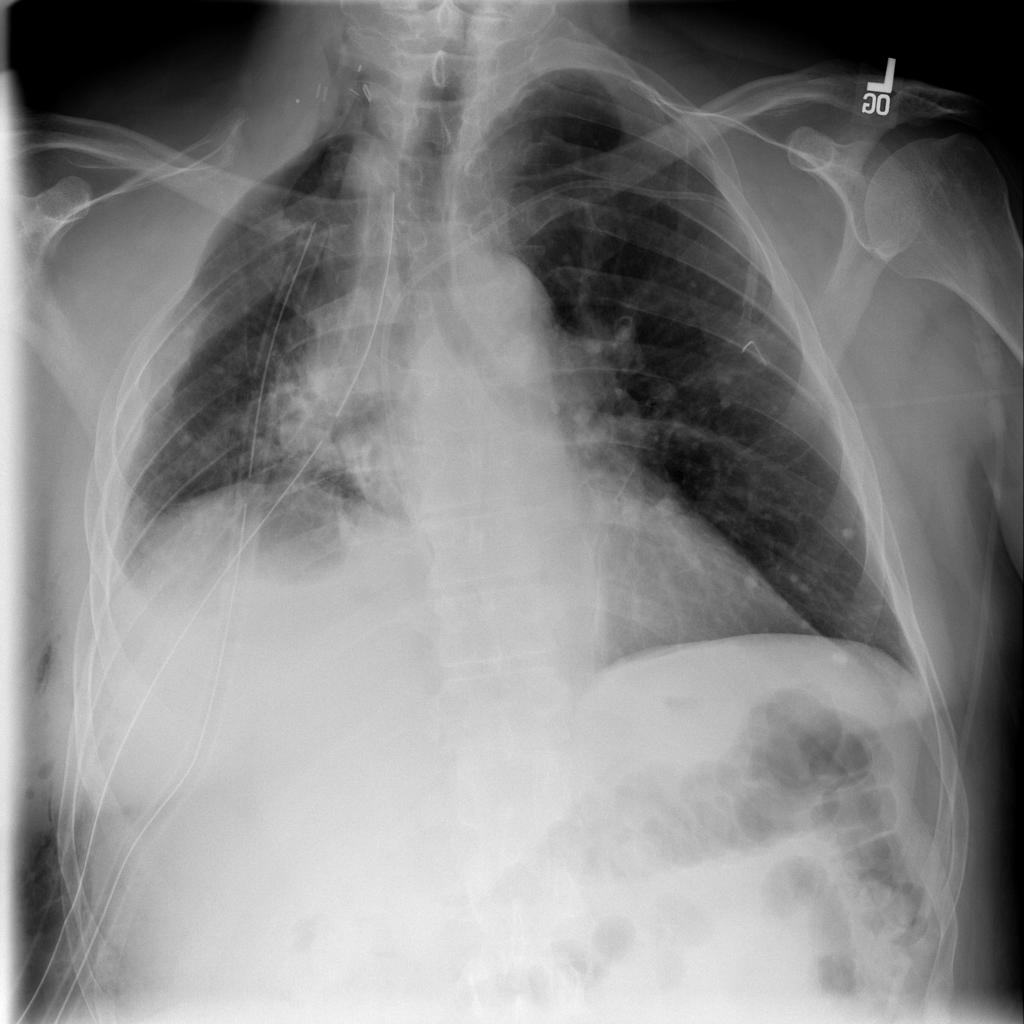nodule: (816, 512, 867, 564), (160, 411, 207, 462)
